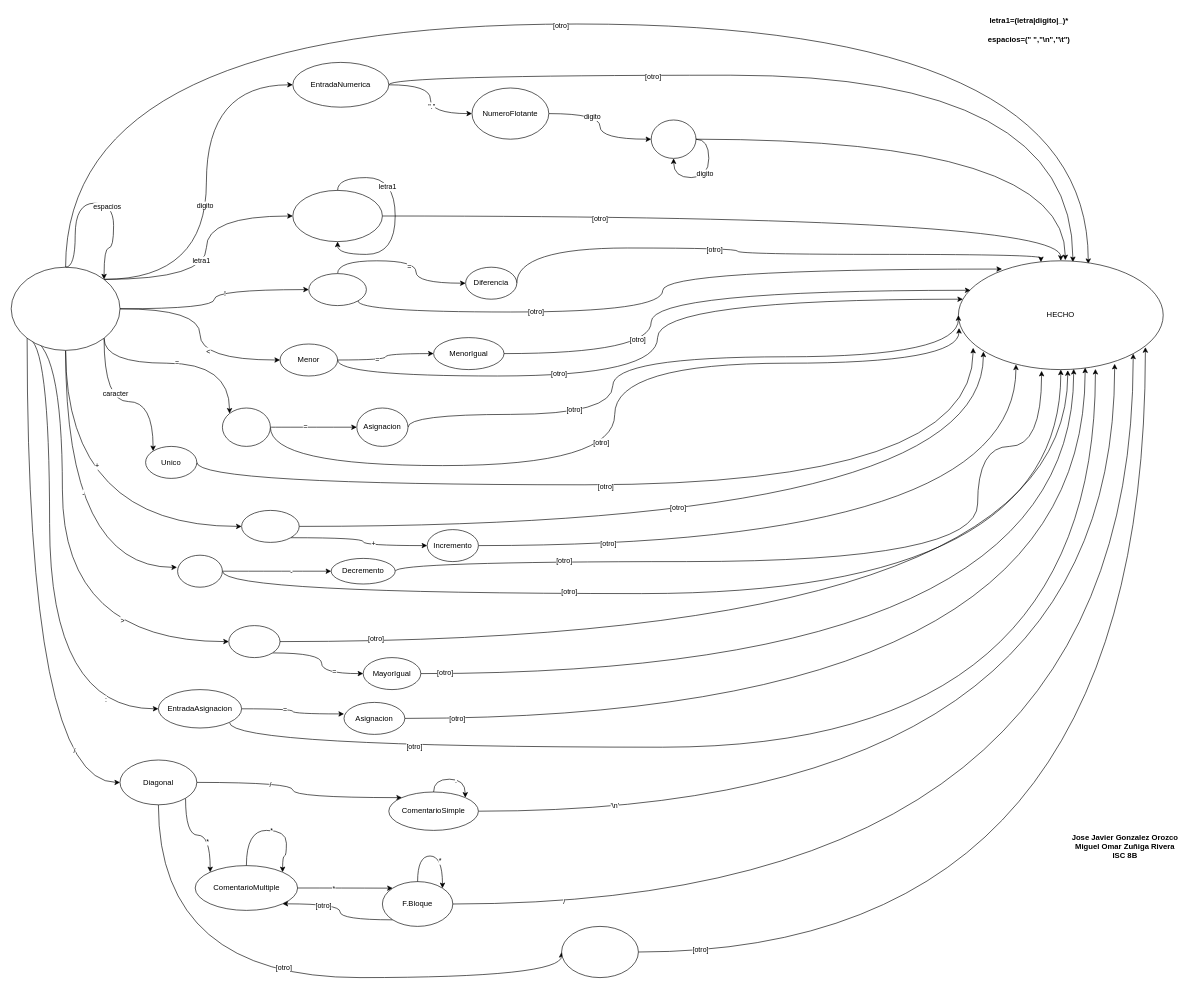
The diagram is 1197 pixels wide and 989 high, and some of its shapes have lost their labels. Here are the shapes that lost their labels. From the top down, the centre of each, then its label:
point (673, 138): Ciclo
point (337, 216): EntradaIdentificador
point (65, 308): INICIO
point (337, 289): Exclamacion
point (246, 426): Igual
point (270, 526): Adicion
point (199, 571): Resta
point (254, 641): Mayor
point (599, 952): Division
